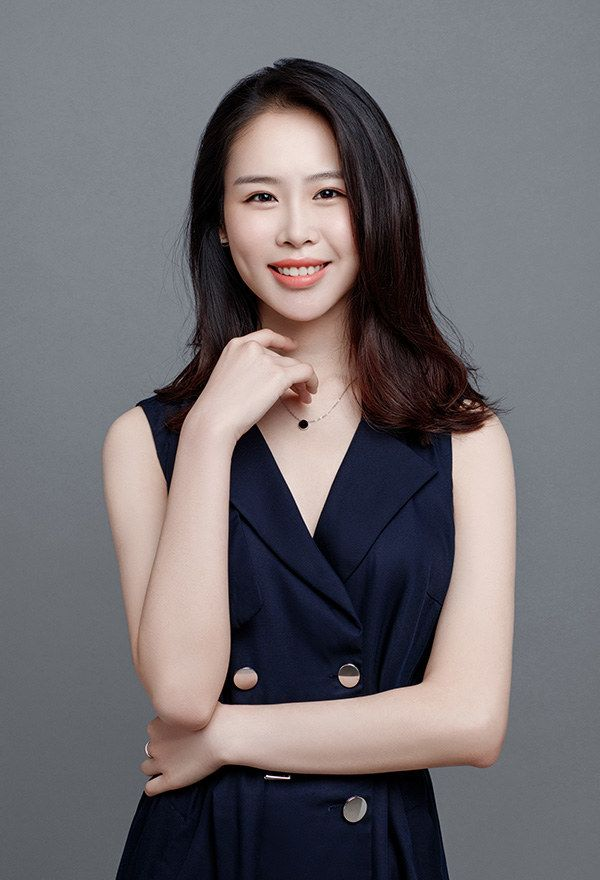unmask: (232, 131, 362, 294)
